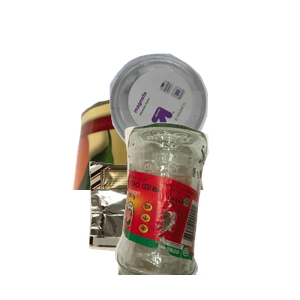glass: (112, 120, 300, 300)
metal: (69, 93, 265, 273)
plastic: (107, 51, 300, 199)
trash: (86, 158, 242, 300)
